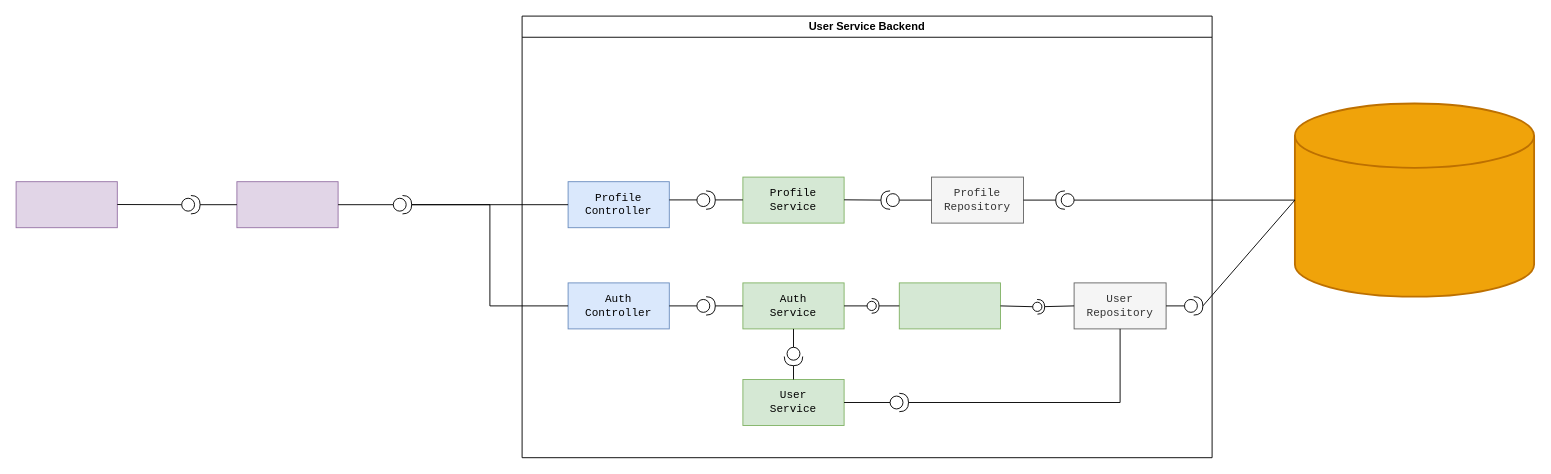
This 1551x474 diagram has some shape labels left out. Each missing label, with the centre of its shape:
"Admin Service" belongs at (949,305).
"API Gateway" belongs at (287,204).
"DataBase" belongs at (1414,199).
"Frontend" belongs at (66,204).
